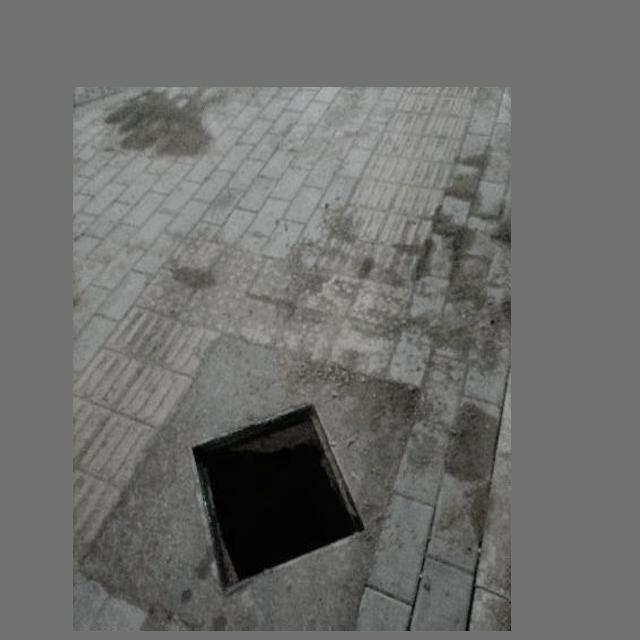lose: (171, 400, 378, 609)
